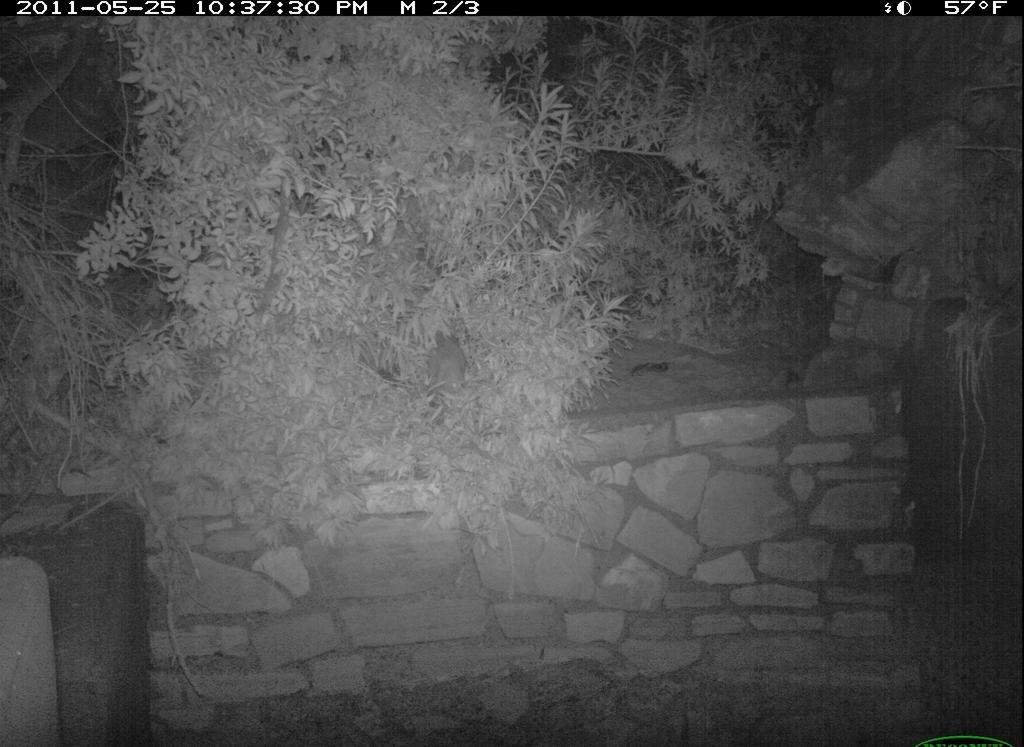opossum: (418, 321, 477, 402)
